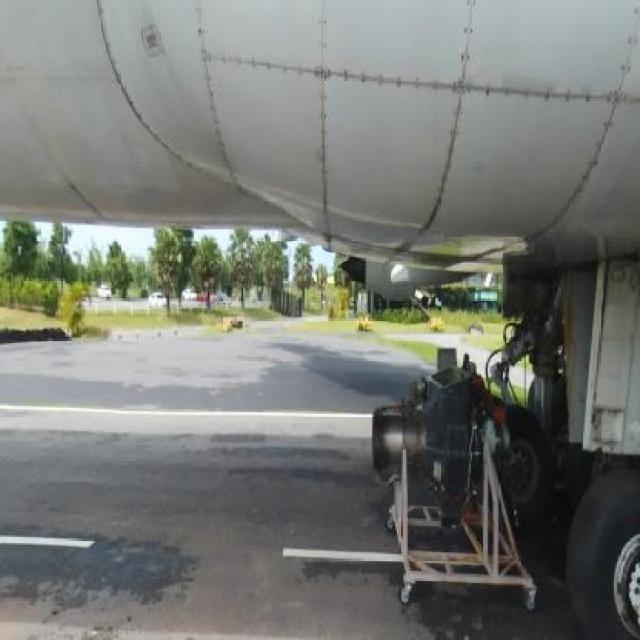Missing-Rivet: (579, 7, 636, 242), (427, 7, 481, 238), (192, 14, 251, 206), (310, 8, 342, 245), (336, 55, 435, 112), (477, 72, 581, 121), (243, 46, 319, 89)
